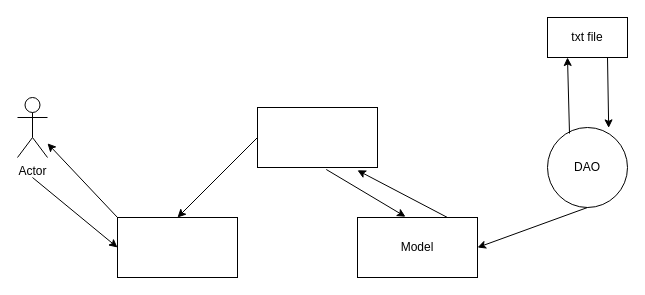
Some shapes in this 645 by 295 pixel diagram are drawn without their labels. The centre of each missing label's shape, as x and y in pixels:
"Controller" belongs at point 317,137.
"View" belongs at point 177,247.
